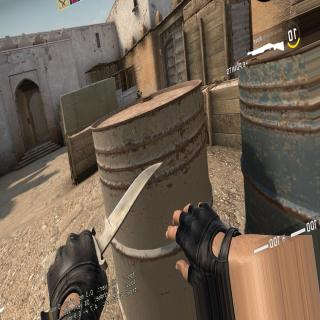CT-Body: (136, 89, 142, 100)
CT-Head: (138, 89, 140, 92)
